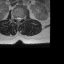CCS_normal: (17, 15, 19, 22)
LFS_normal: (21, 15, 23, 20)
LLS_normal: (19, 15, 21, 21)
RFS_normal: (14, 15, 15, 20)
RLS_normal: (15, 15, 17, 21)
